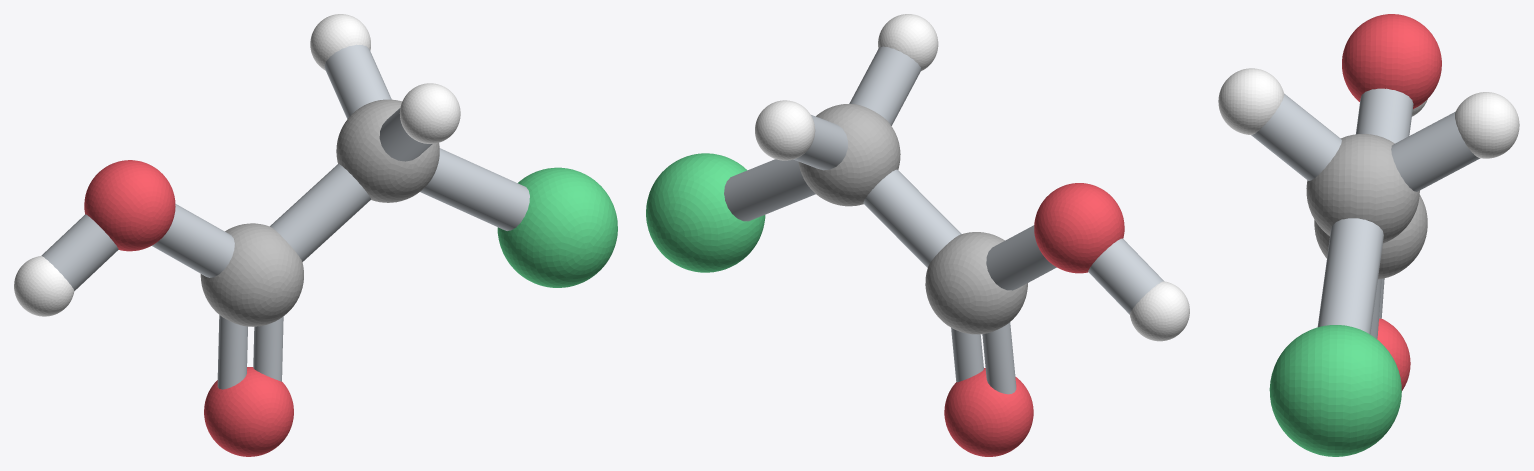
File: Cloroacetico.glb
The picture shows the model from 3 angles, left to right: view 1: azimuth 30°, elevation 25°; view 2: azimuth 150°, elevation 25°; view 3: azimuth 270°, elevation 25°; orthographic projection. The views are drawn at different scales.
Size of the model in its own units: 5.35 by 3.36 by 2.25.
